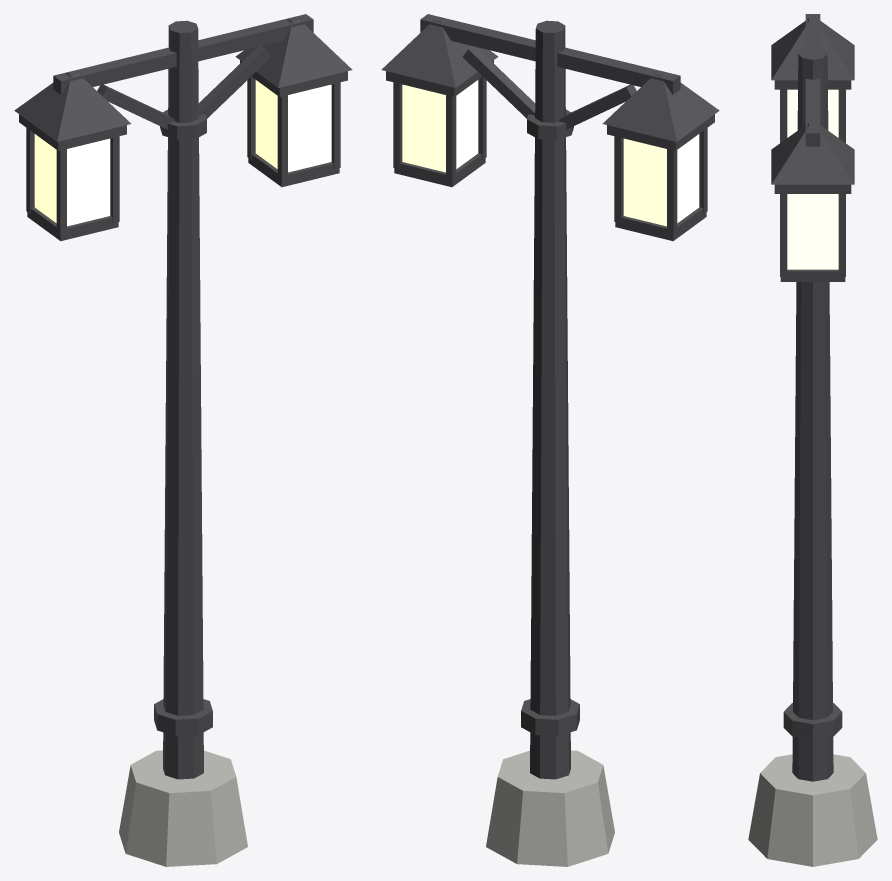
Rendered from LampPost_Double.glb.
The picture shows the model from 3 angles, left to right: view 1: azimuth 30°, elevation 25°; view 2: azimuth 150°, elevation 25°; view 3: azimuth 270°, elevation 25°; orthographic projection. The views are drawn at different scales.
Visible parts, largest first — view 1: LampPost_Double; view 2: LampPost_Double; view 3: LampPost_Double.
Part boxes in pixels (left/top/right/bottom): LampPost_Double: left=14, top=14, right=352, bottom=866; LampPost_Double: left=381, top=14, right=719, bottom=866; LampPost_Double: left=748, top=14, right=877, bottom=866.
Bounding box in the file's own units: 1.12 × 2.95 × 0.44.
